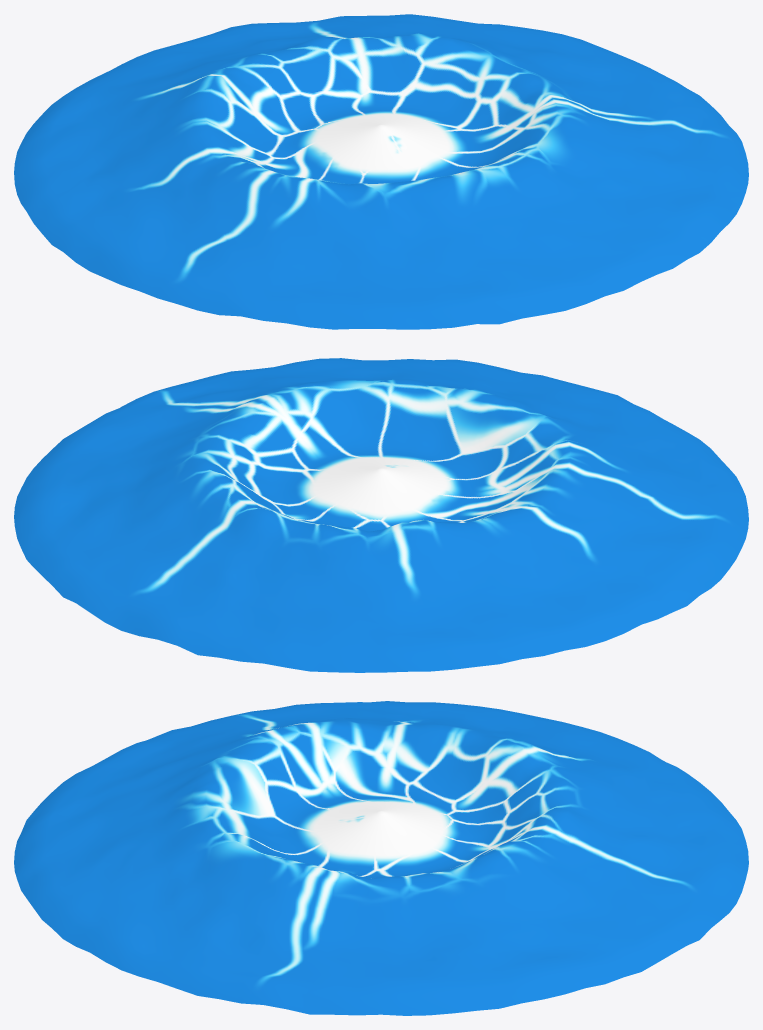
The model's file is magma_frost.glb.
The picture shows the model from 3 angles, top to bottom: view 1: azimuth 30°, elevation 25°; view 2: azimuth 150°, elevation 25°; view 3: azimuth 270°, elevation 25°; orthographic projection.
Visible parts, largest first — view 1: magma; view 2: magma; view 3: magma.
Part boxes in pixels (box(x1,y1,x2,y2)): magma: box(14, 14, 748, 329); magma: box(14, 358, 748, 672); magma: box(14, 701, 748, 1015).
Bounding box in the file's own units: 4 × 0.4326 × 4.
Materials: 1 (1 with a texture image).
